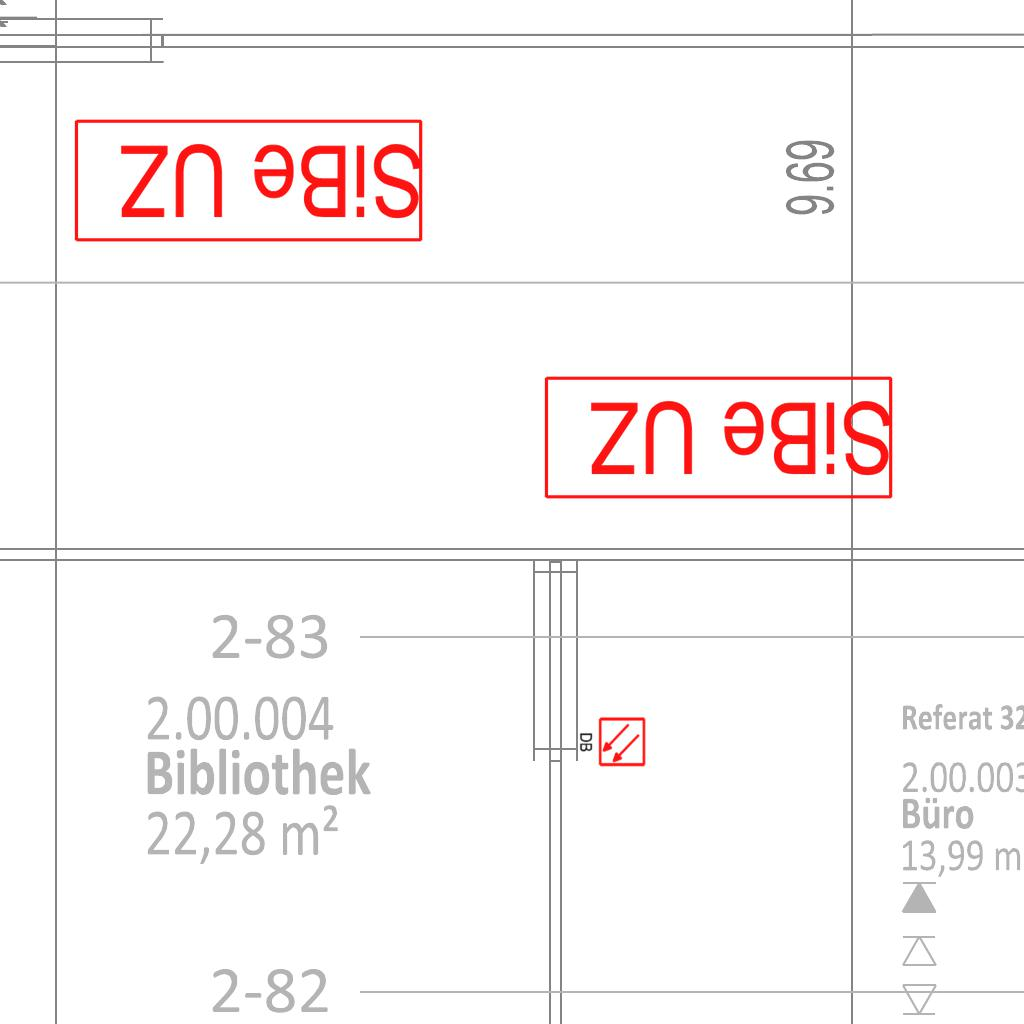DB_Melder_in_Doppelboden_mit_Revisionsoeffnung_mind_40_x_40_cm: (575, 714, 649, 771)
Zentrale_Sicherheitsbeleuchtung: (539, 372, 896, 502), (69, 115, 426, 245)
